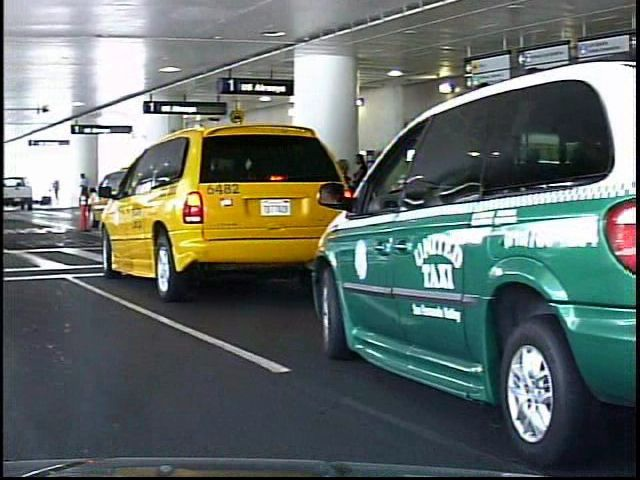person: (71, 172, 88, 210)
